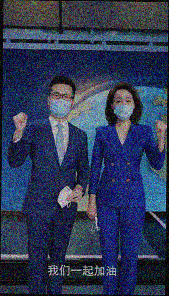with_mask: (48, 91, 73, 118), (113, 95, 135, 122)
